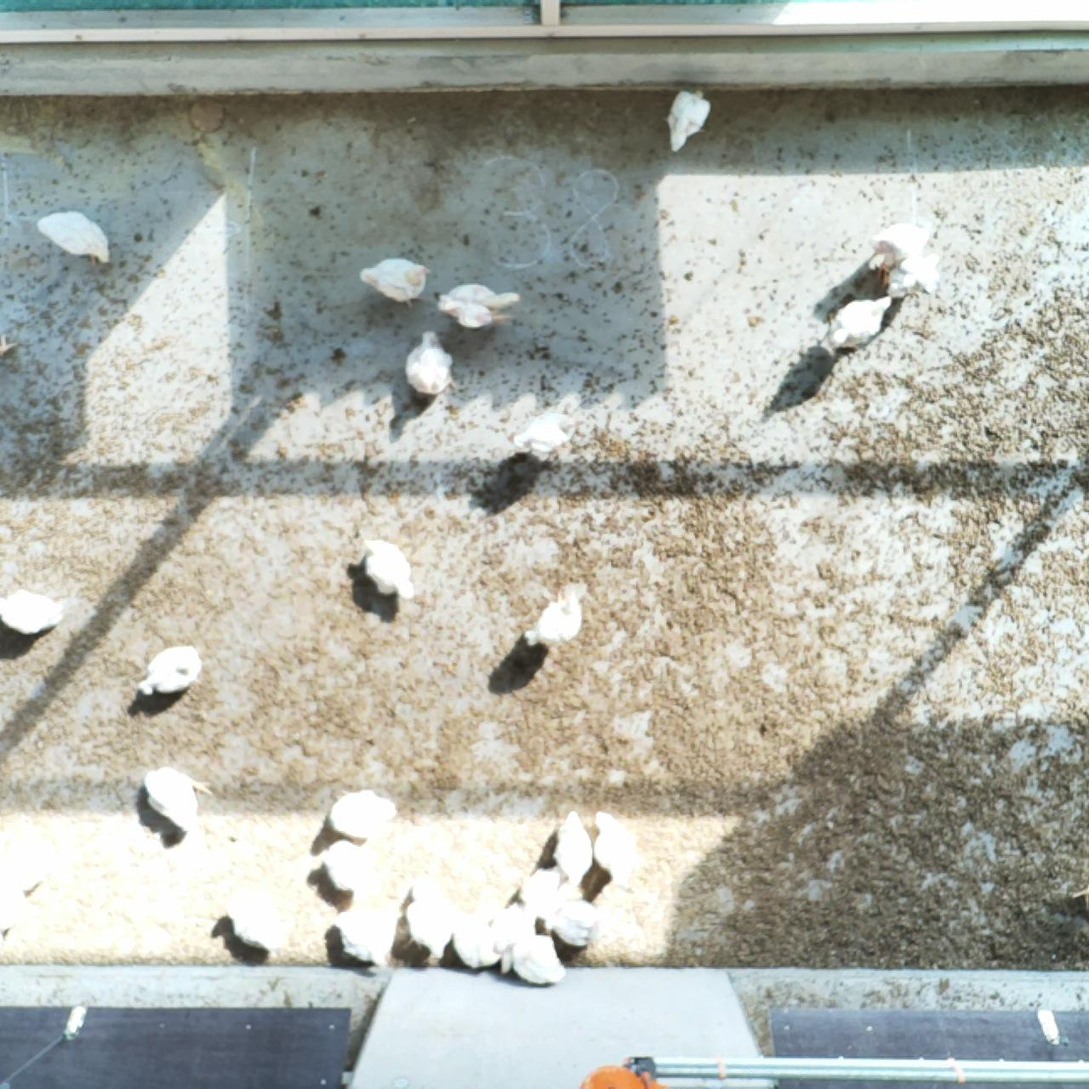chicken: (141, 762, 216, 838), (329, 896, 404, 972), (816, 292, 895, 361), (223, 887, 298, 957), (436, 278, 526, 333), (405, 873, 462, 959), (35, 209, 114, 269), (402, 327, 463, 402), (508, 408, 587, 465), (320, 839, 395, 898), (328, 787, 400, 846), (520, 587, 586, 649), (360, 535, 419, 604), (358, 256, 432, 311), (134, 641, 204, 699), (865, 220, 935, 277), (490, 899, 540, 976), (661, 86, 716, 156), (592, 808, 637, 888), (454, 902, 504, 970), (552, 807, 595, 886), (0, 586, 65, 637), (511, 932, 569, 989), (516, 860, 572, 915), (540, 897, 598, 948), (885, 252, 943, 302), (133, 962, 138, 965)
